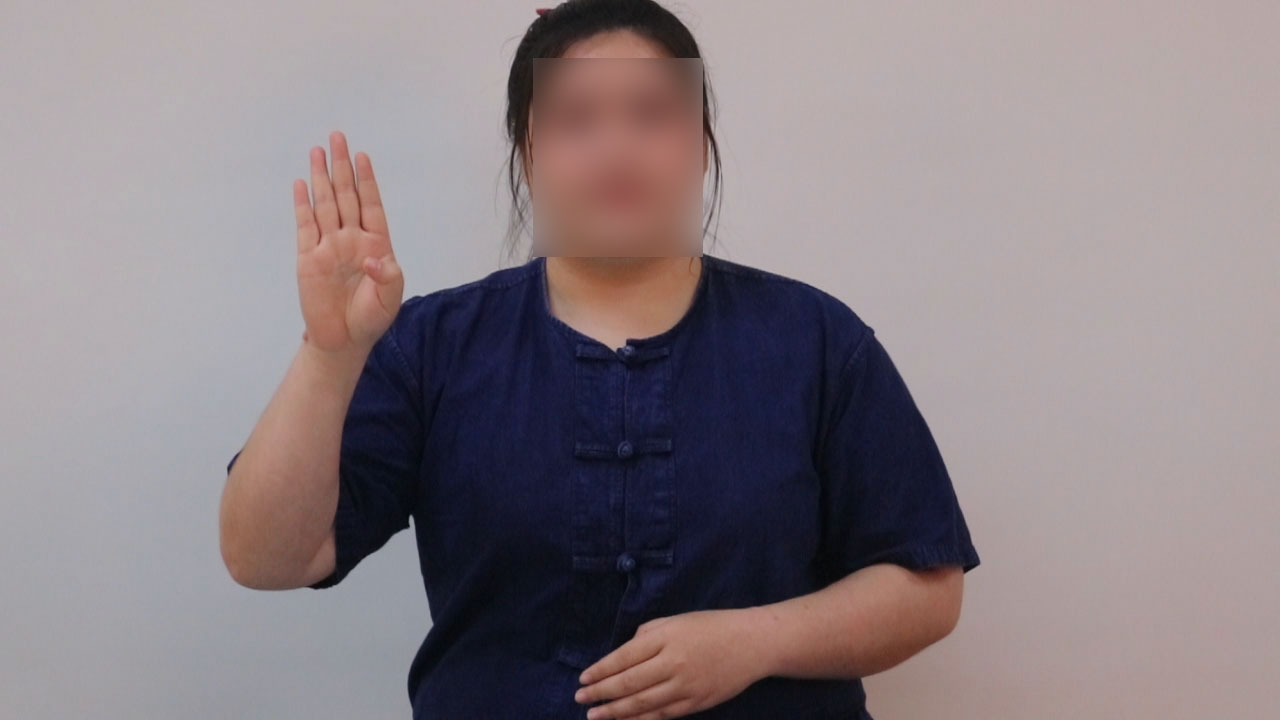bor: (266, 113, 424, 391)
